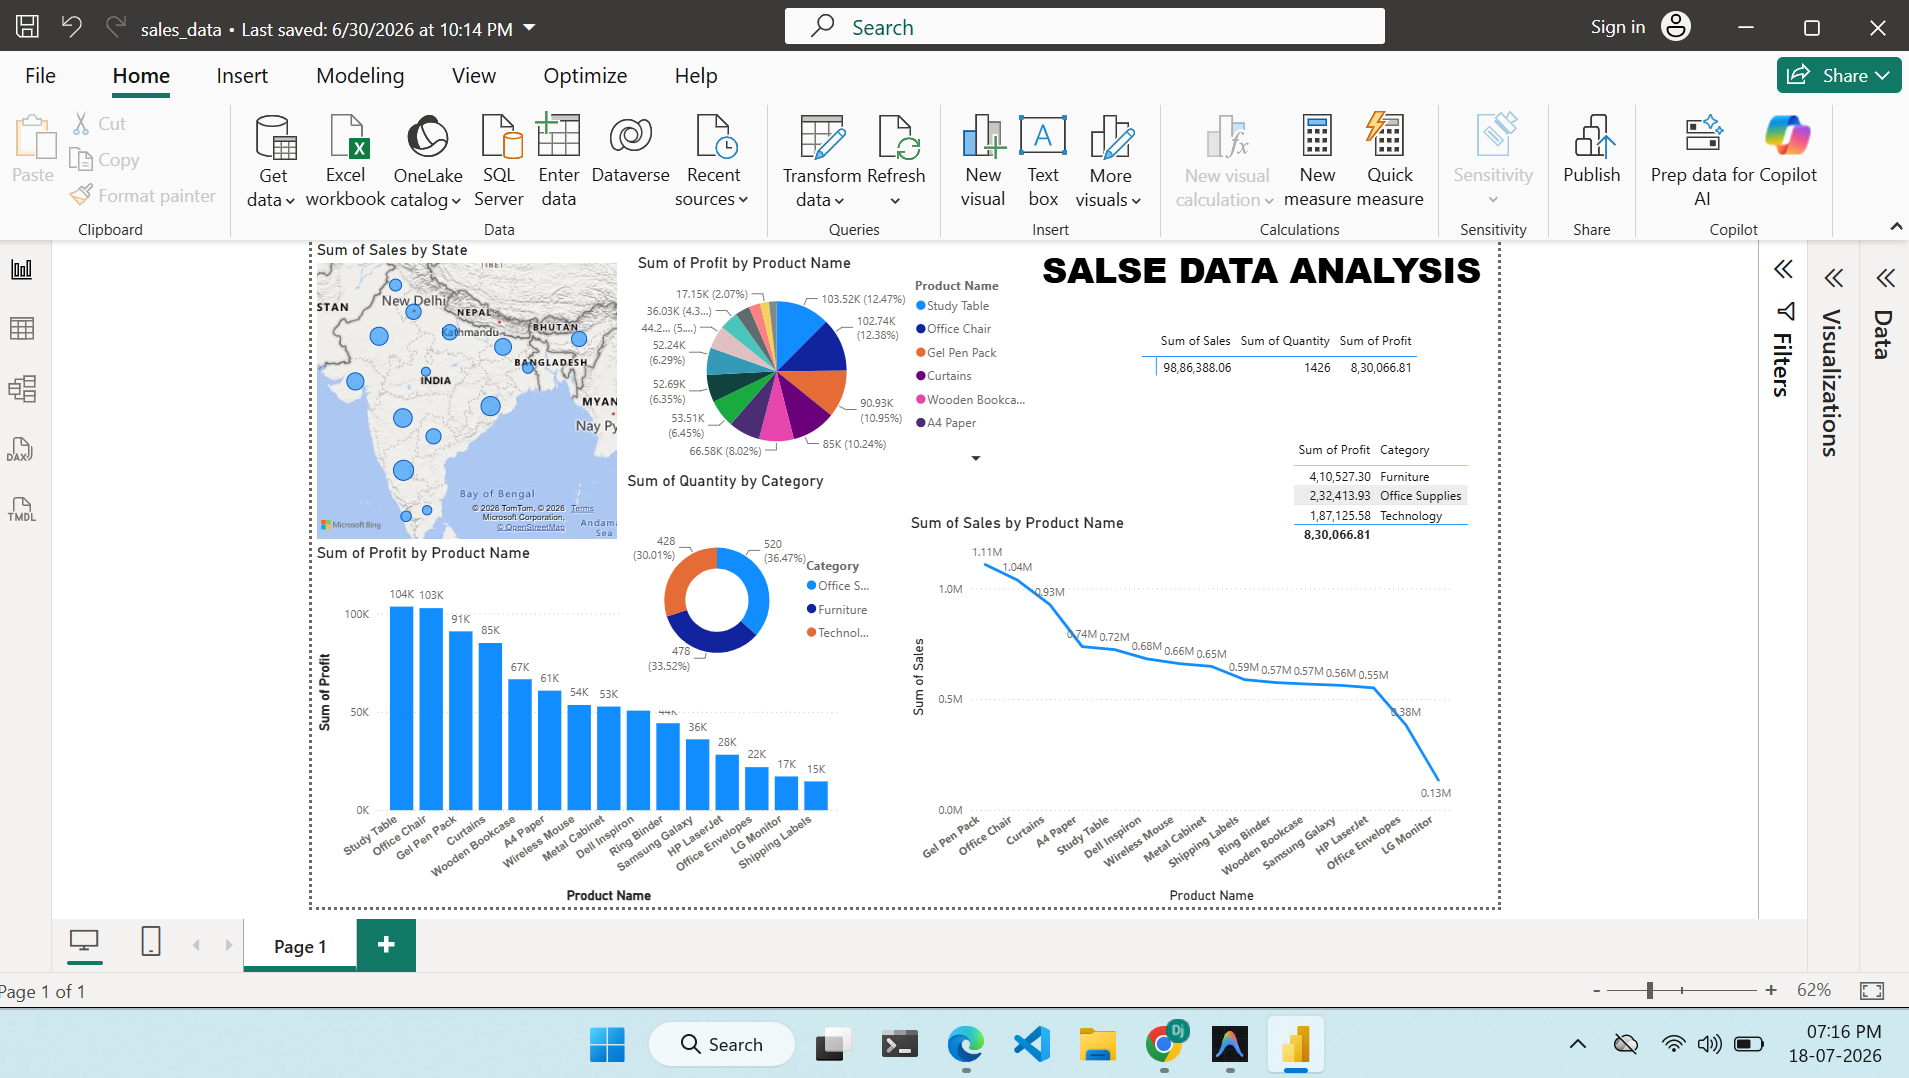

The page's visual inventory and layout, read from the dashboard file:
{"tool":"powerbi","page":{"name":"Page 1","canvas":[1280,720],"ordinal":0},"visuals":[{"type":"columnChart","fields":{"Category":["sales_data analyzed_data_table.Product Name"],"Y":["Sum(sales_data analyzed_data_table.Profit)"]},"box":[0,326.9,574.5,393.1],"z":0},{"type":"map","fields":{"Category":["sales_data analyzed_data_table.State"],"Size":["Sum(sales_data analyzed_data_table.Sales)"]},"box":[0,0,334.5,326.9],"z":1000},{"type":"textbox","box":[771,0,508.4,64.3],"z":2000},{"type":"textbox","box":[334,0,240,327],"z":3000},{"type":"pieChart","fields":{"Category":["sales_data analyzed_data_table.Product Name"],"Y":["Sum(sales_data analyzed_data_table.Profit)"]},"box":[345.8,15.1,438.4,234.3],"z":4000},{"type":"donutChart","fields":{"Category":["sales_data analyzed_data_table.Category"],"Y":["Sum(sales_data analyzed_data_table.Quantity)"]},"box":[334.5,249.5,287.2,258.9],"z":5000},{"type":"pivotTable","fields":{"Values":["Sum(sales_data analyzed_data_table.Sales)","Sum(sales_data analyzed_data_table.Quantity)","Sum(sales_data analyzed_data_table.Profit)"]},"box":[797,97,389.4,112.1],"z":6000},{"type":"lineChart","fields":{"Category":["sales_data analyzed_data_table.Product Name"],"Y":["Sum(sales_data analyzed_data_table.Sales)"]},"box":[640.6,294.8,593.4,425.2],"z":7000},{"type":"tableEx","fields":{"Values":["Sum(sales_data analyzed_data_table.Profit)","sales_data analyzed_data_table.Category"]},"box":[1054.5,209.8,209.8,136.1],"z":8000}]}

Visuals, with their boxes on the page's 1280x720 design canvas (x1, y1, x2, y2). These are canvas units, not pixel positions in the 1909x1078 screenshot, which may show the page scaled, cropped or inside an application window:
columnChart - sales_data analyzed_data_table.Product Name x Sum(sales_data analyzed_data_table.Profit): bbox=(0, 327, 574, 720)
map - sales_data analyzed_data_table.State x Sum(sales_data analyzed_data_table.Sales): bbox=(0, 0, 334, 327)
textbox: bbox=(771, 0, 1279, 64)
textbox: bbox=(334, 0, 574, 327)
pieChart - sales_data analyzed_data_table.Product Name x Sum(sales_data analyzed_data_table.Profit): bbox=(346, 15, 784, 249)
donutChart - sales_data analyzed_data_table.Category x Sum(sales_data analyzed_data_table.Quantity): bbox=(334, 250, 622, 508)
pivotTable - Sum(sales_data analyzed_data_table.Sales) x Sum(sales_data analyzed_data_table.Quantity): bbox=(797, 97, 1186, 209)
lineChart - sales_data analyzed_data_table.Product Name x Sum(sales_data analyzed_data_table.Sales): bbox=(641, 295, 1234, 720)
tableEx - Sum(sales_data analyzed_data_table.Profit) x sales_data analyzed_data_table.Category: bbox=(1054, 210, 1264, 346)
